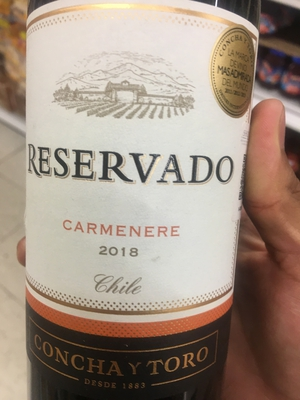reservado carmenere: (21, 2, 264, 400)
